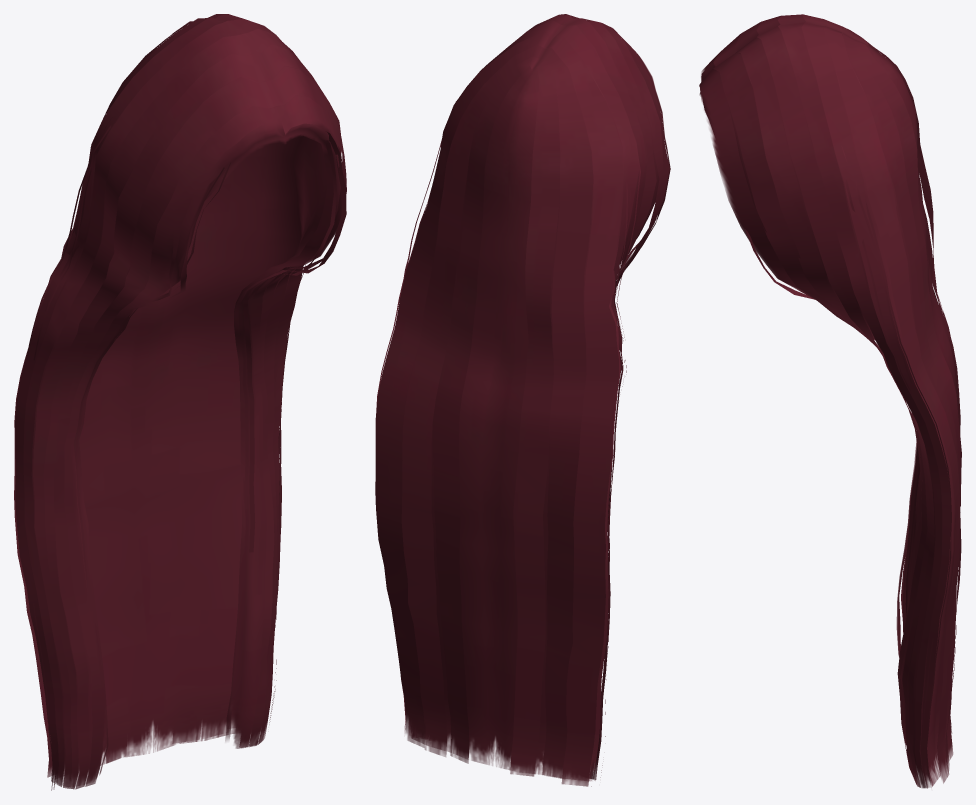
File: hair_bone_wine.glb
3 renders of one model, left to right at view 1: azimuth 30°, elevation 25°; view 2: azimuth 150°, elevation 25°; view 3: azimuth 270°, elevation 25°, orthographic. The views are drawn at different scales.
Visible parts, largest first — view 1: hair_bone_wine; view 2: hair_bone_wine; view 3: hair_bone_wine.
Part boxes in pixels (x1,y1,x2,y2): hair_bone_wine: [14, 14, 346, 790]; hair_bone_wine: [375, 14, 670, 786]; hair_bone_wine: [699, 14, 961, 788].
Bounding box in the file's own units: 0.2576 × 0.7242 × 0.2368.
Materials: 1 (1 with a texture image).
